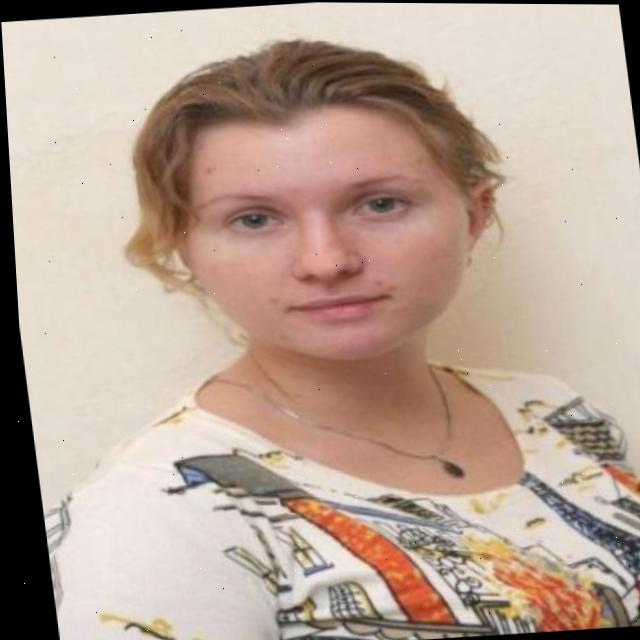Acne: (358, 260, 408, 310)
